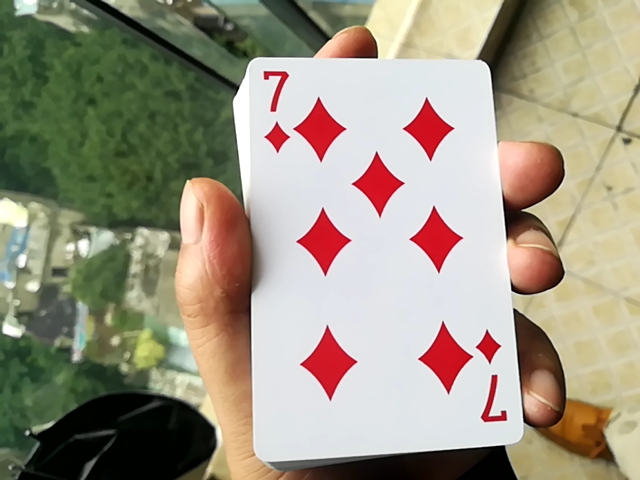fk 7: (222, 38, 518, 466)
